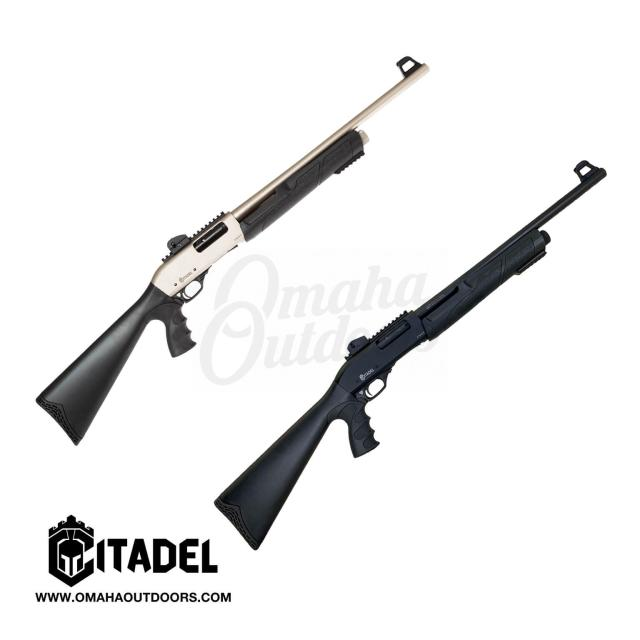ShotGun: (215, 162, 608, 552), (37, 59, 428, 446)
